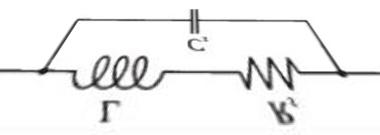inductor: (62, 52, 171, 93)
